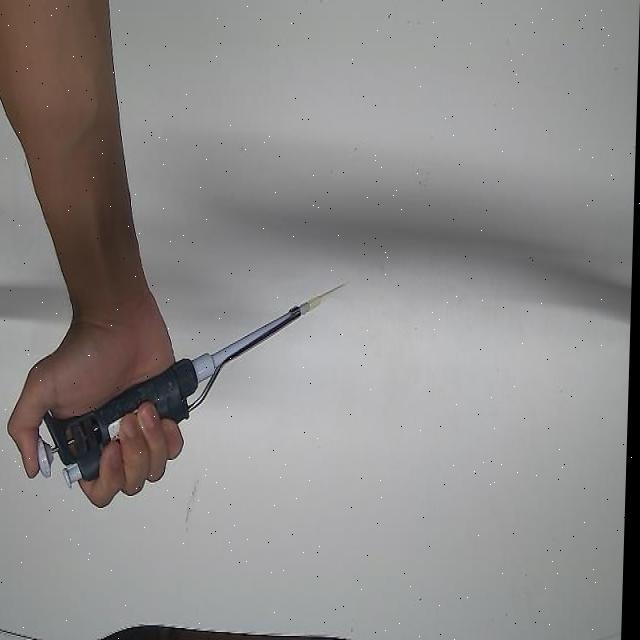Single Channel Pipettor: (27, 292, 325, 490)
